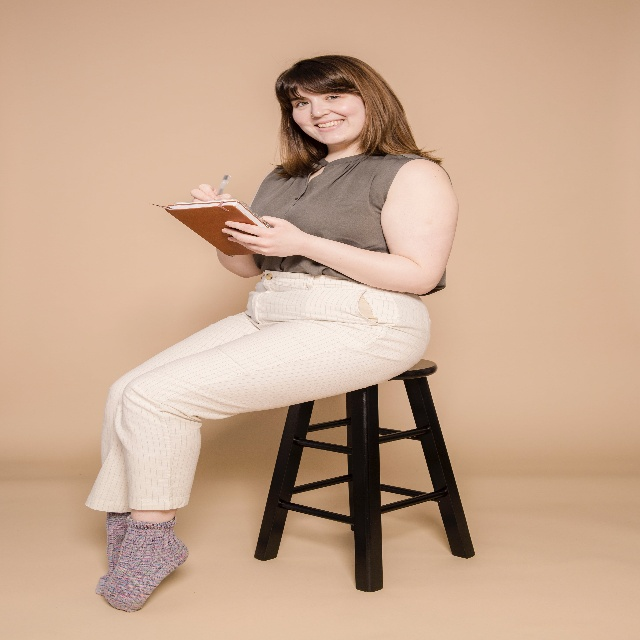Sin_guantes: (221, 214, 300, 257), (190, 182, 233, 201)
